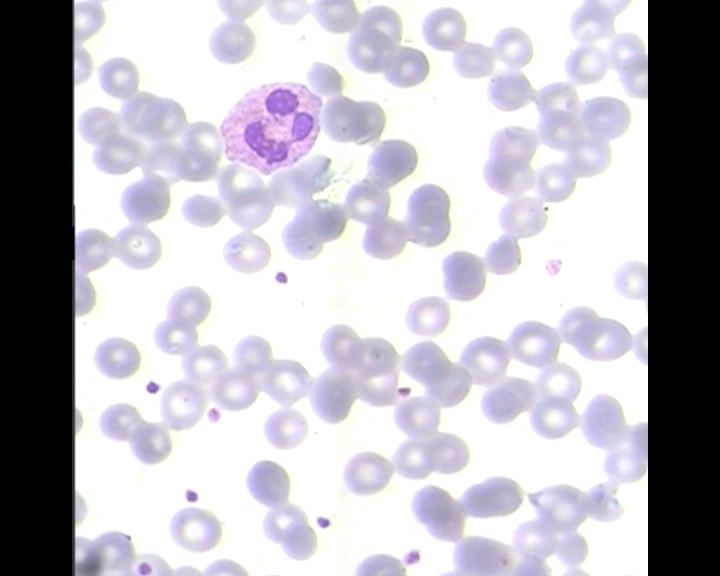neut: (209, 78, 323, 173)
